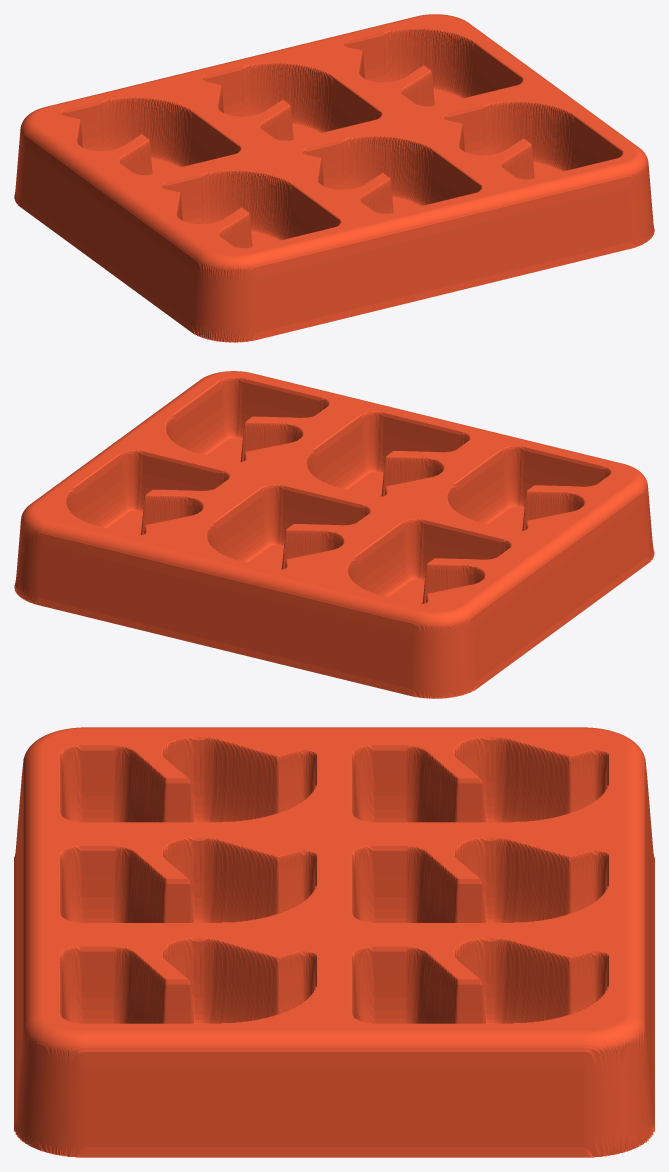
File: mold.glb
3 renders of one model, top to bottom at view 1: azimuth 30°, elevation 25°; view 2: azimuth 150°, elevation 25°; view 3: azimuth 270°, elevation 25°, orthographic. The views are drawn at different scales.
Visible parts, largest first — view 1: geometry_0; view 2: geometry_0; view 3: geometry_0.
Part boxes in pixels (box(x1,y1,x2,y2)): geometry_0: box(14, 14, 654, 342); geometry_0: box(14, 371, 654, 698); geometry_0: box(14, 727, 654, 1157).
Bounding box in the file's own units: 0.0972 × 0.0159 × 0.0808.
